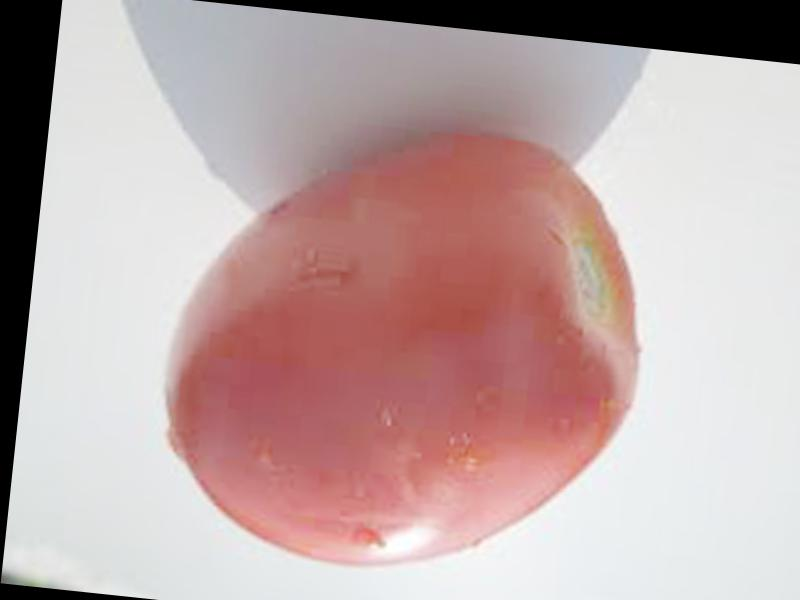Tomato: (150, 105, 660, 594)
